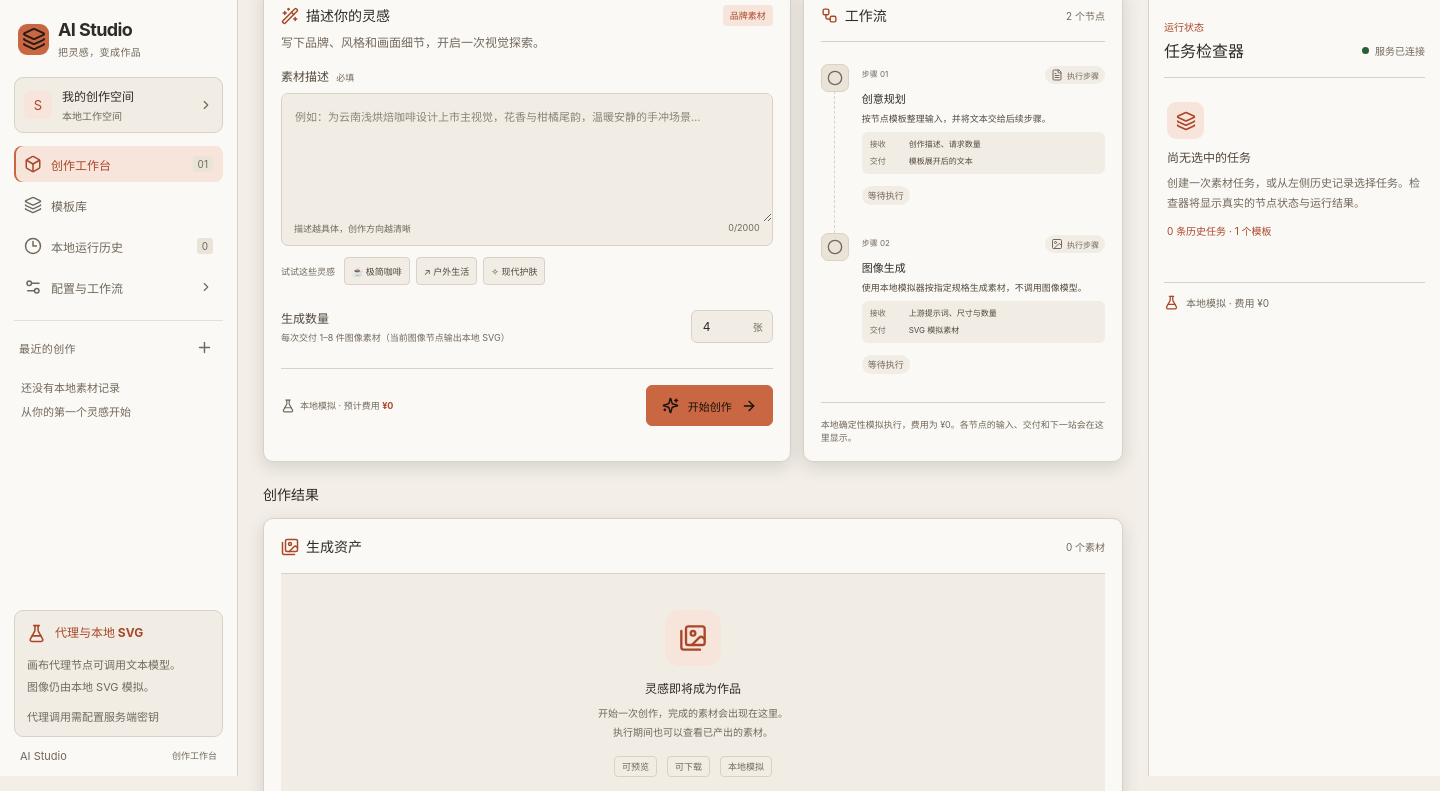
中文工作台用户流程 › 显示模拟标识、禁用未来功能，并支持输入、创建与取消
(page scrolled)
Click the button "开始创作": (709, 406) [646,385,773,426]
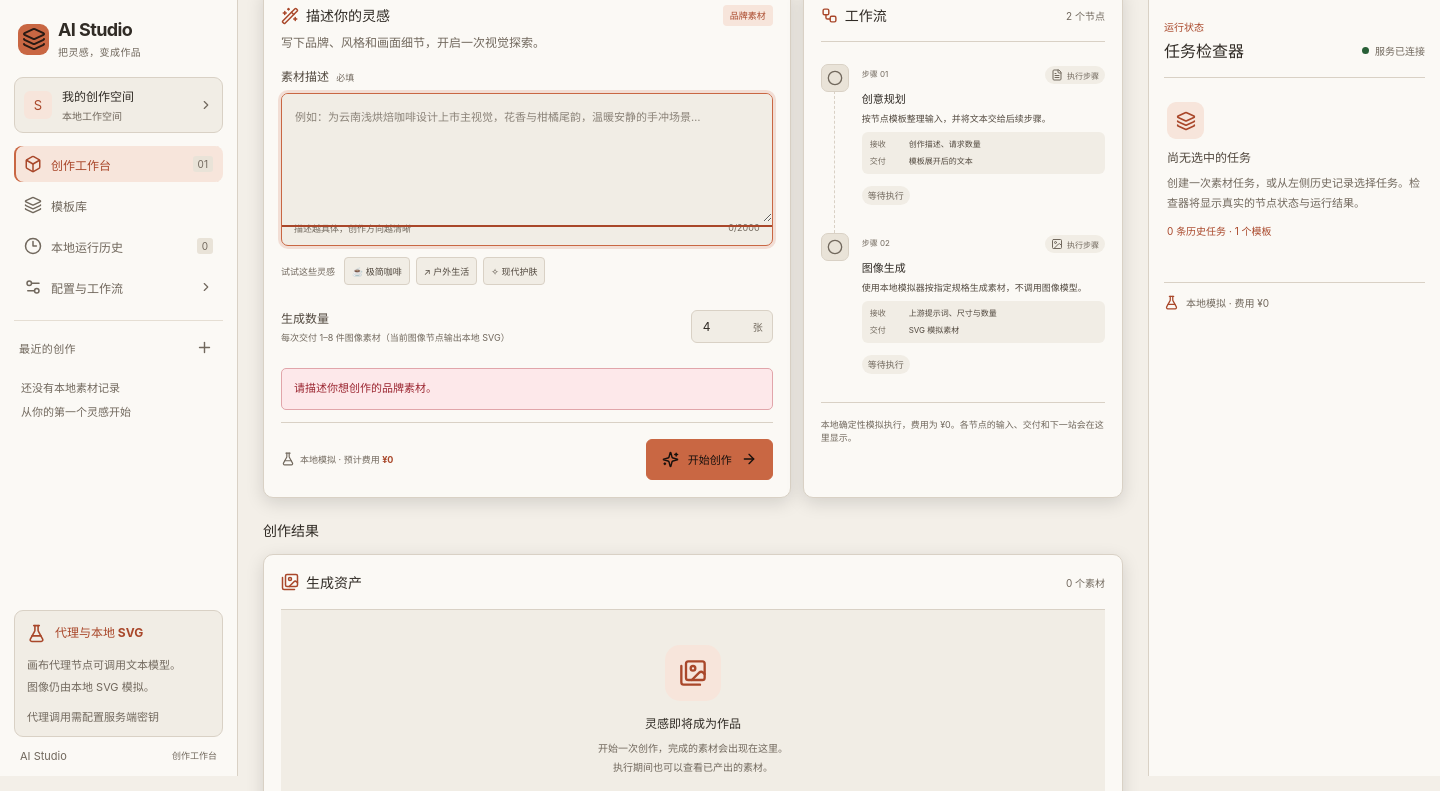
Expected: the message shows "请描述", [281,368,773,410]
In the text box labelled "素材描述 必填": (527, 158) [282,94,772,222], type "  极简咖啡  "
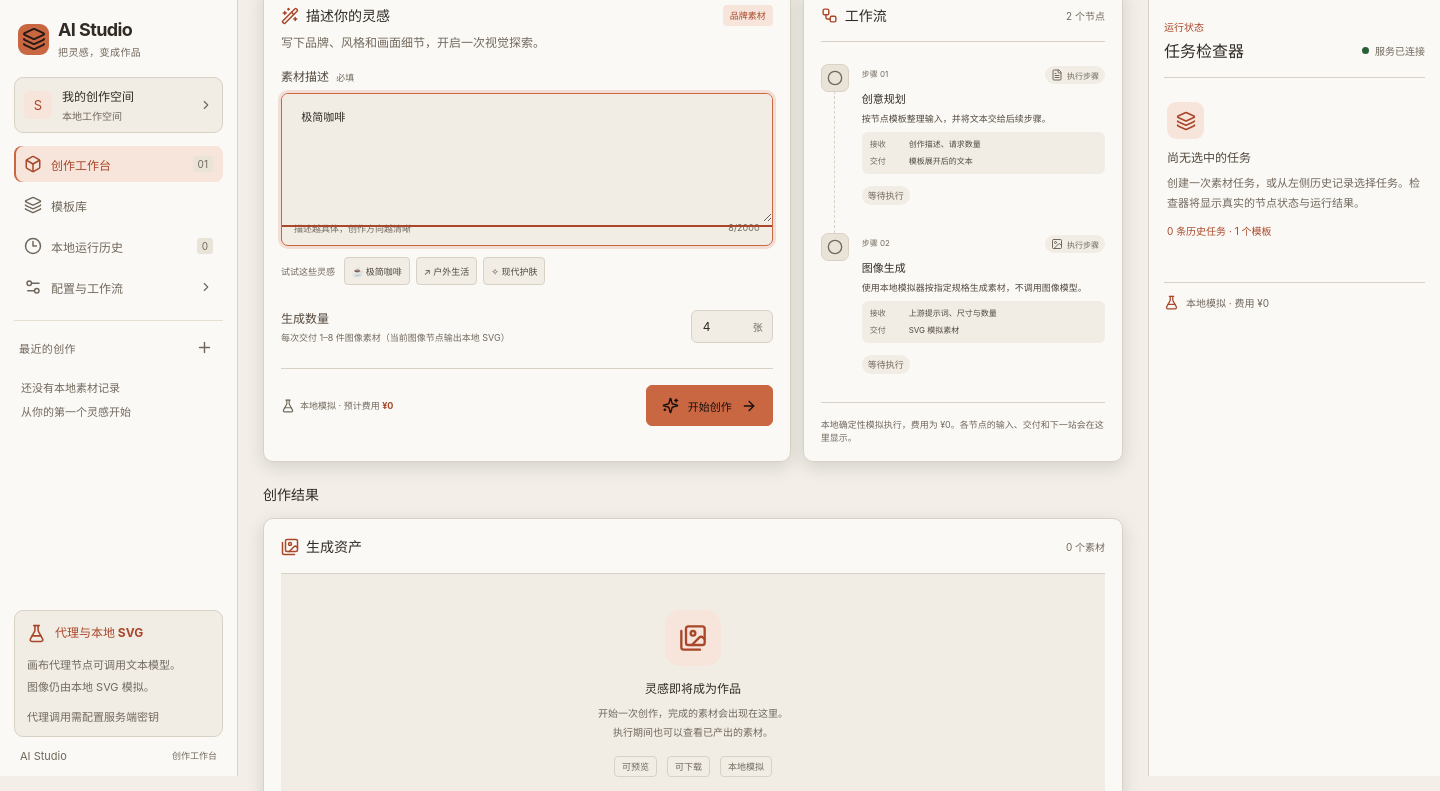
Replace the text in the number field labelled "生成数量" with "2": (723, 327) [701,318,746,335]
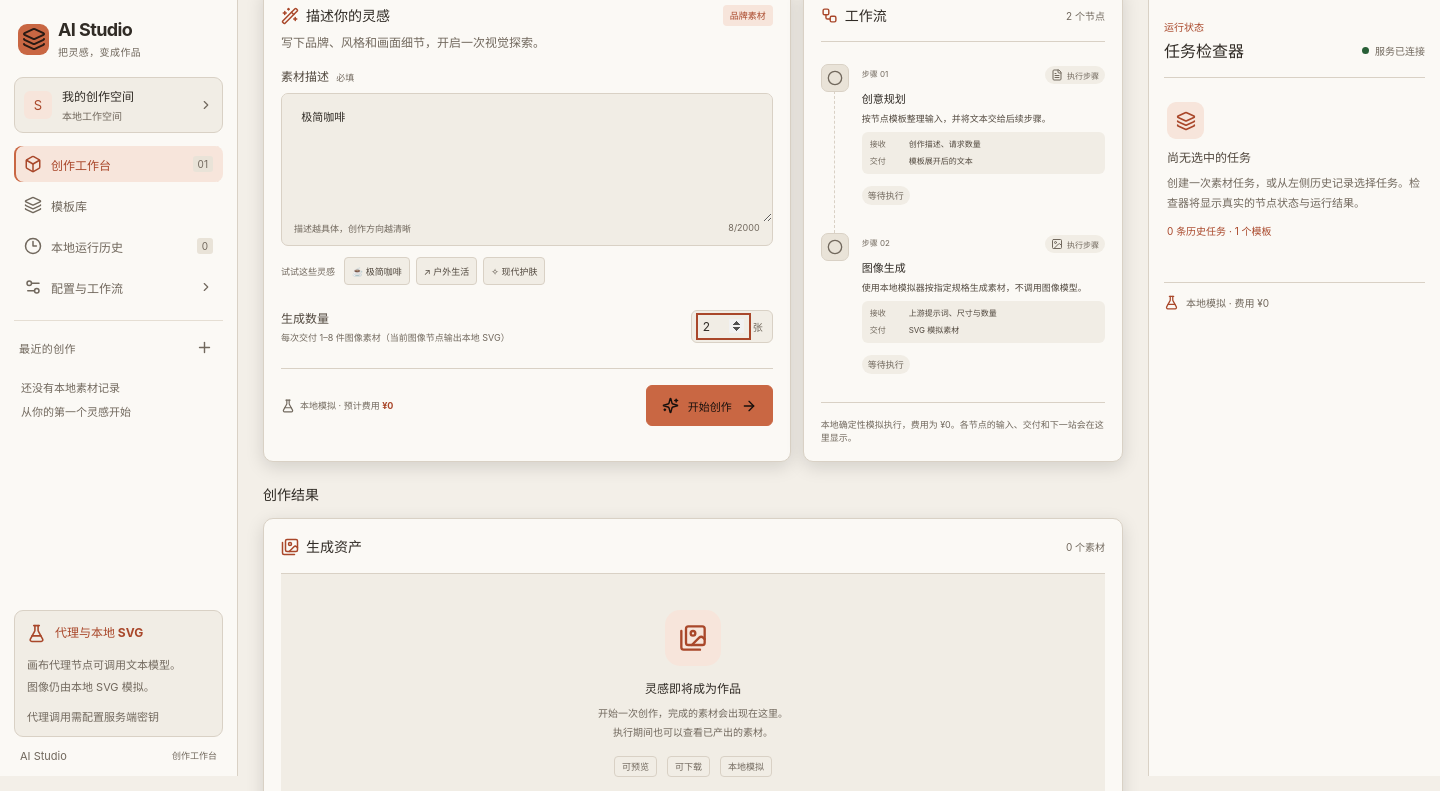
Click the button "开始创作": (709, 406) [646,385,773,426]
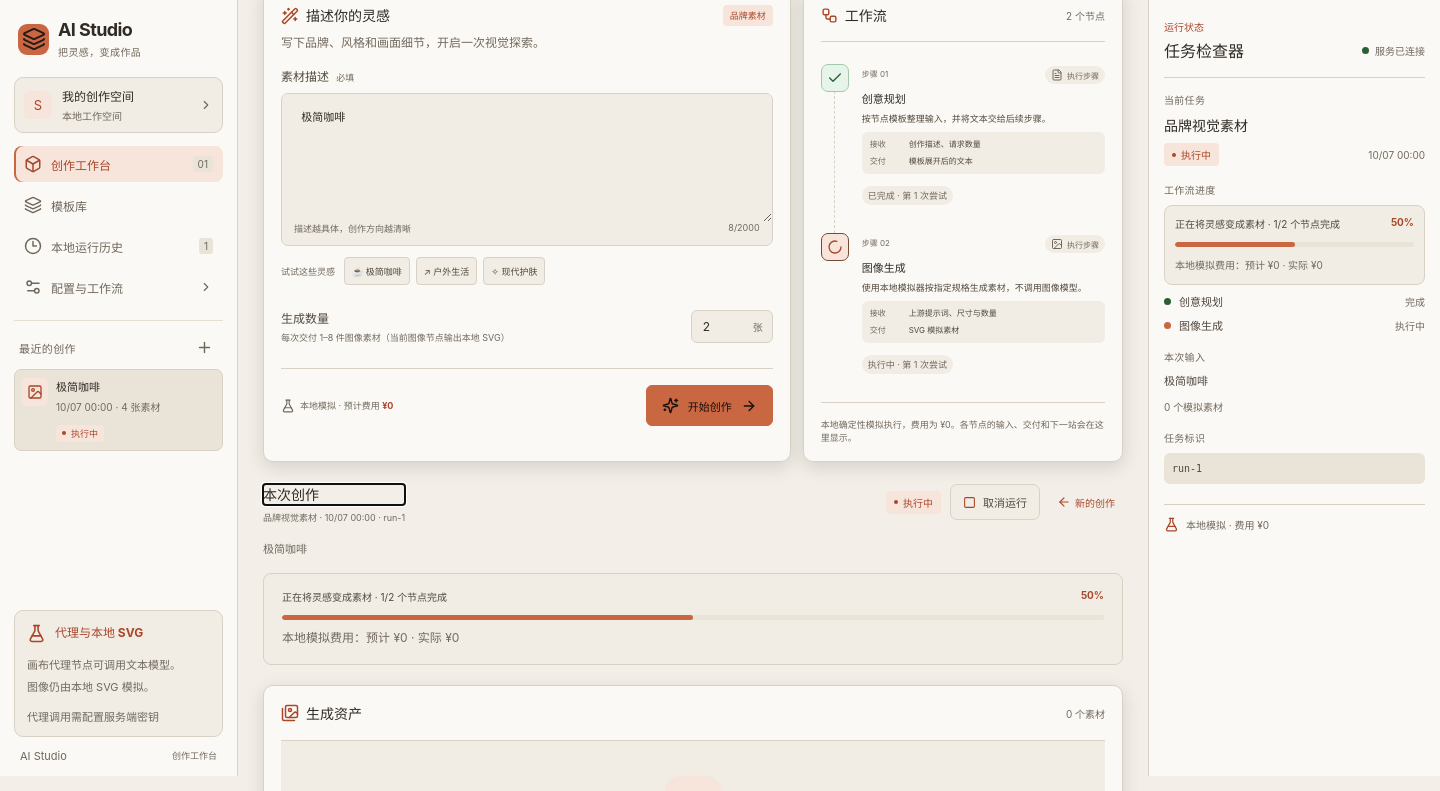
Click the button "取消运行": (995, 502) [950,484,1040,520]
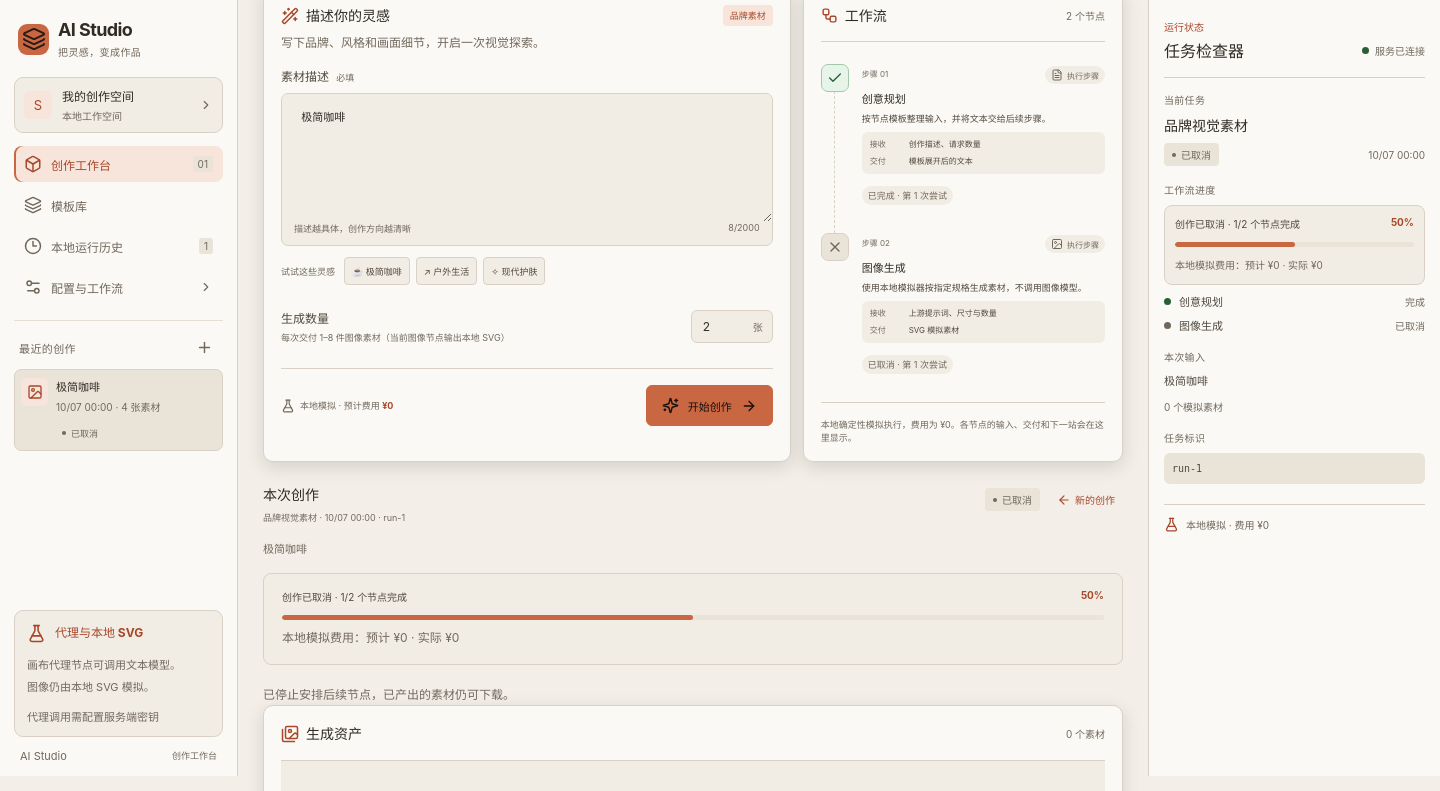
Expected: the text "已停止安排后续节点，已产出的素材仍可下载。" is shown, [263,687,515,702]
